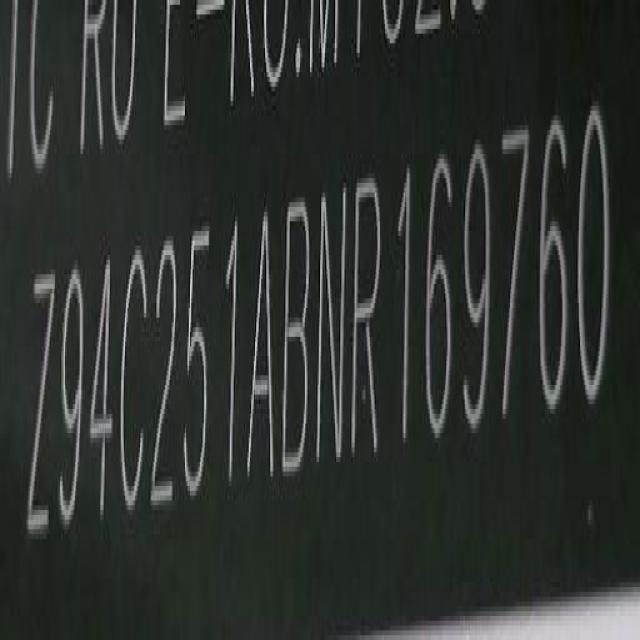0: (580, 96, 614, 414)
1: (398, 154, 416, 456), (224, 210, 242, 497)
2: (154, 238, 181, 517)
4: (91, 256, 117, 529)
5: (187, 218, 214, 516)
6: (539, 108, 573, 422), (426, 150, 456, 448)
7: (500, 112, 532, 434)
9: (464, 139, 494, 443), (60, 262, 86, 540)
A: (246, 205, 278, 478)
B: (284, 190, 316, 485)
C: (121, 242, 152, 522)
N: (318, 178, 348, 476)
R: (353, 170, 385, 466)
Z: (26, 269, 56, 556)
